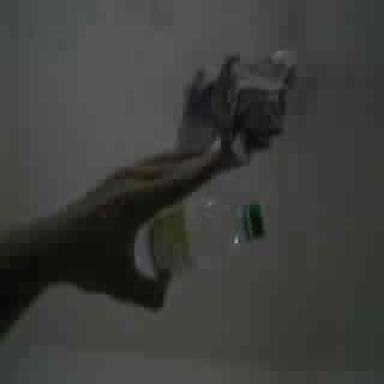bottle: (139, 179, 264, 274)
paper: (204, 50, 295, 162), (180, 130, 217, 147)
